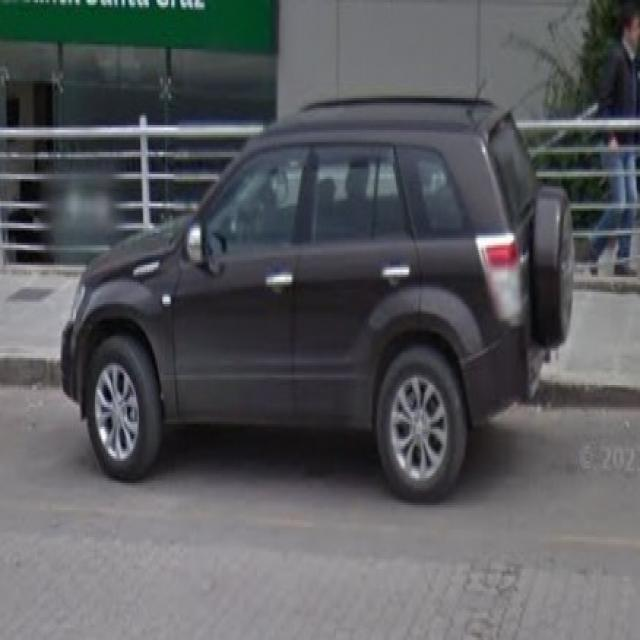cars: (68, 105, 569, 492)
